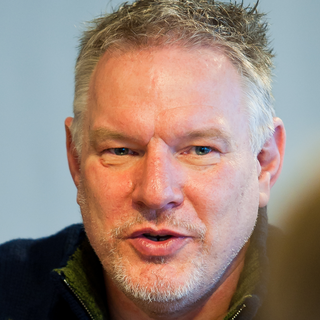eye: (181, 140, 227, 164), (98, 140, 143, 164)
